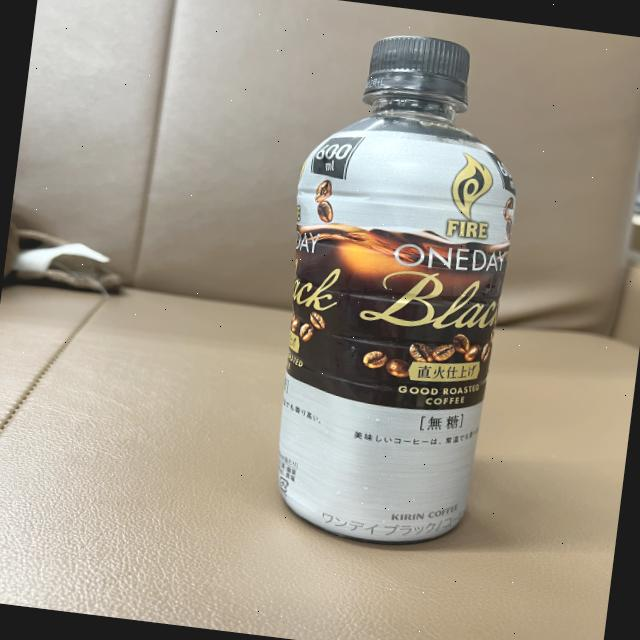coffee-black: (257, 18, 534, 556)
